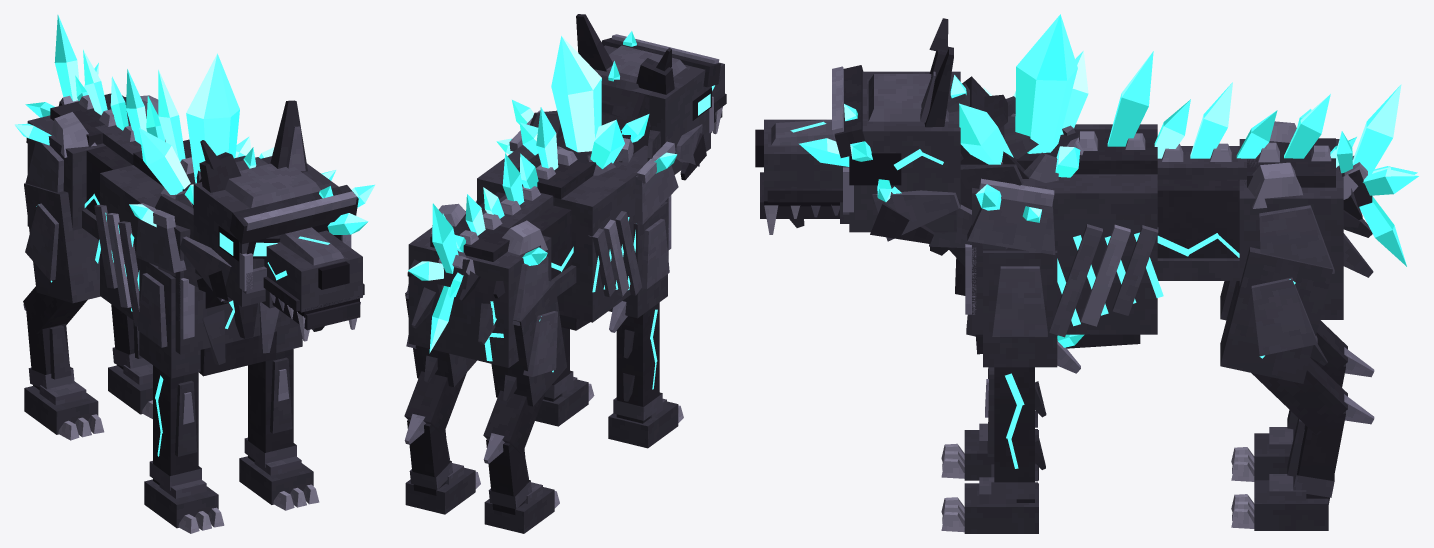
File: fmob_shard_wolf.glb
3 renders of one model, left to right at view 1: azimuth 30°, elevation 25°; view 2: azimuth 150°, elevation 25°; view 3: azimuth 270°, elevation 25°, orthographic. The views are drawn at different scales.
Parts seen in each view (by area): view 1: fmob_shard_wolf, head, leg_br, leg_fr, leg_fl, weak_spine, glow_shards, leg_bl, sway_tail, glow_eyes, jaw; view 2: fmob_shard_wolf, leg_br, head, leg_fr, leg_bl, weak_spine, glow_shards, sway_tail, leg_fl, glow_cracks; view 3: fmob_shard_wolf, head, leg_bl, leg_fl, weak_spine, glow_shards, sway_tail, leg_br, leg_fr, glow_eyes, glow_cracks, jaw.
Part boxes in pixels (left/top/right/bottom): fmob_shard_wolf: left=25, top=93, right=299, bottom=376; head: left=180, top=100, right=364, bottom=341; leg_br: left=23, top=183, right=104, bottom=440; leg_fr: left=137, top=259, right=224, bottom=533; leg_fl: left=239, top=325, right=319, bottom=510; weak_spine: left=139, top=53, right=274, bottom=204; glow_shards: left=14, top=49, right=335, bottom=227; leg_bl: left=108, top=304, right=152, bottom=418; sway_tail: left=25, top=15, right=98, bottom=117; glow_eyes: left=219, top=184, right=374, bottom=256; jaw: left=262, top=289, right=360, bottom=331; fmob_shard_wolf: left=406, top=75, right=678, bottom=367; leg_br: left=483, top=281, right=566, bottom=533; head: left=576, top=14, right=726, bottom=180; leg_fr: left=608, top=201, right=683, bottom=448; leg_bl: left=404, top=292, right=480, bottom=514; weak_spine: left=519, top=36, right=649, bottom=168; glow_shards: left=454, top=61, right=677, bottom=265; sway_tail: left=408, top=203, right=480, bottom=353; leg_fl: left=535, top=327, right=594, bottom=426; glow_cracks: left=484, top=217, right=635, bottom=361; fmob_shard_wolf: left=929, top=76, right=1373, bottom=354; head: left=755, top=18, right=960, bottom=243; leg_bl: left=1220, top=247, right=1374, bottom=530; leg_fl: left=941, top=250, right=1080, bottom=533; weak_spine: left=959, top=14, right=1088, bottom=177; glow_shards: left=950, top=51, right=1356, bottom=347; sway_tail: left=1336, top=84, right=1418, bottom=266; leg_br: left=1220, top=281, right=1374, bottom=481; leg_fr: left=941, top=367, right=1045, bottom=480; glow_eyes: left=799, top=104, right=943, bottom=202; glow_cracks: left=1057, top=232, right=1239, bottom=326; jaw: left=760, top=172, right=849, bottom=227.
Bounding box in the file's own units: 0.6864 × 1.45 × 1.79.
15 materials, 6 textured.
